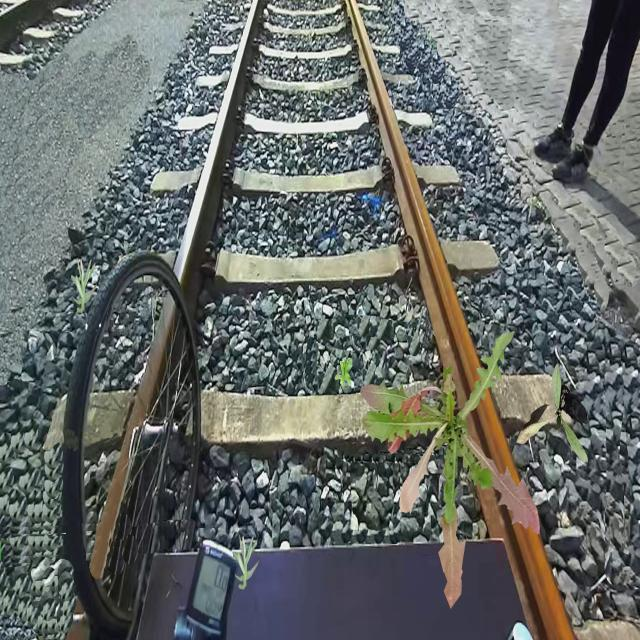Plant: (360, 331, 540, 609), (516, 363, 588, 462), (71, 257, 98, 314), (233, 534, 260, 590), (335, 357, 352, 389)
